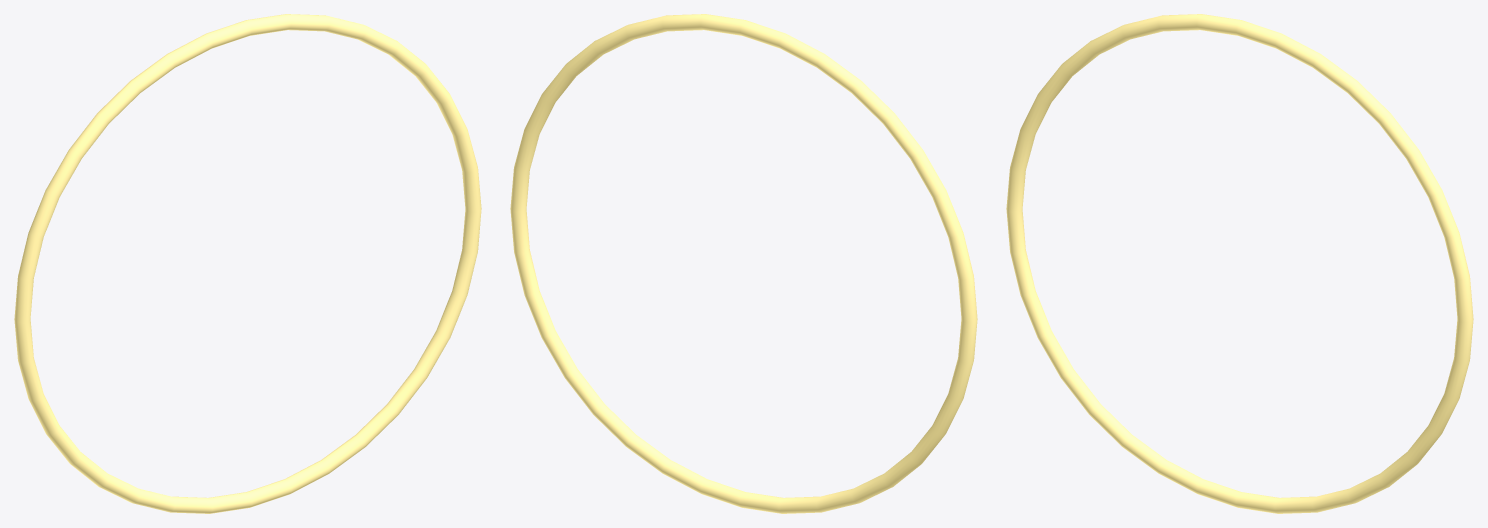
Rendered from eagle-crown-ring.high.glb.
The picture shows the model from 3 angles, left to right: view 1: azimuth 30°, elevation 25°; view 2: azimuth 150°, elevation 25°; view 3: azimuth 330°, elevation 25°; orthographic projection.
Parts seen in each view (by area): view 1: Eagle Crown Ring; view 2: Eagle Crown Ring; view 3: Eagle Crown Ring.
Boxes of the visible parts, x1=… form: Eagle Crown Ring: x1=14, y1=14, x2=481, y2=513; Eagle Crown Ring: x1=510, y1=14, x2=977, y2=513; Eagle Crown Ring: x1=1006, y1=14, x2=1473, y2=513.
Bounding box in the file's own units: 42.67 × 42.67 × 1.26.
